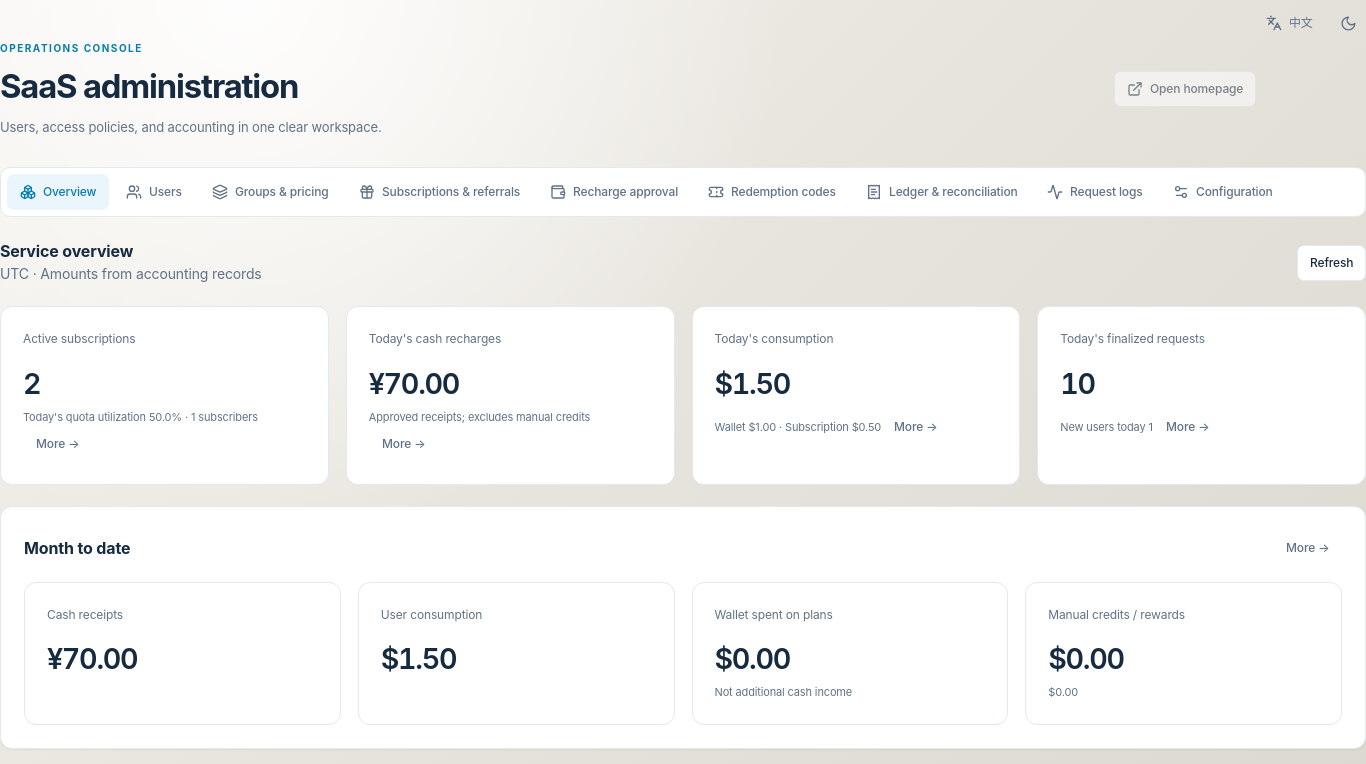
Test: SaaS administrator › keeps service configuration inside the SaaS administration panel
Click the button "Configuration" at {"x": 1223, "y": 192}, box x1=1160 y1=174 x2=1286 y2=210
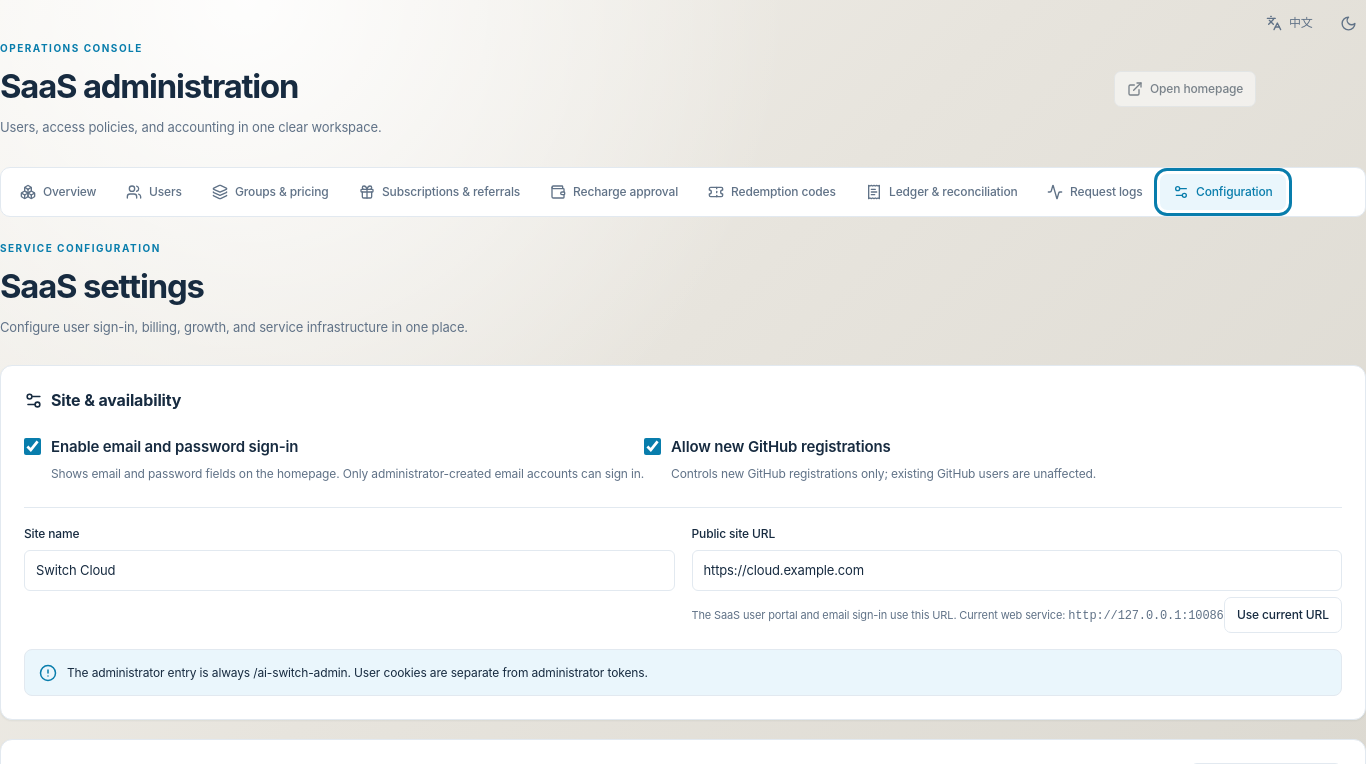
Now the field labelled "Public site URL" holds "https://cloud.example.com", box x1=692 y1=550 x2=1342 y2=591
Now the text "http://127.0.0.1:10086" is shown, box x1=1068 y1=609 x2=1224 y2=623
Click the button "Use current URL" at {"x": 1282, "y": 615}, box x1=1224 y1=597 x2=1341 y2=633
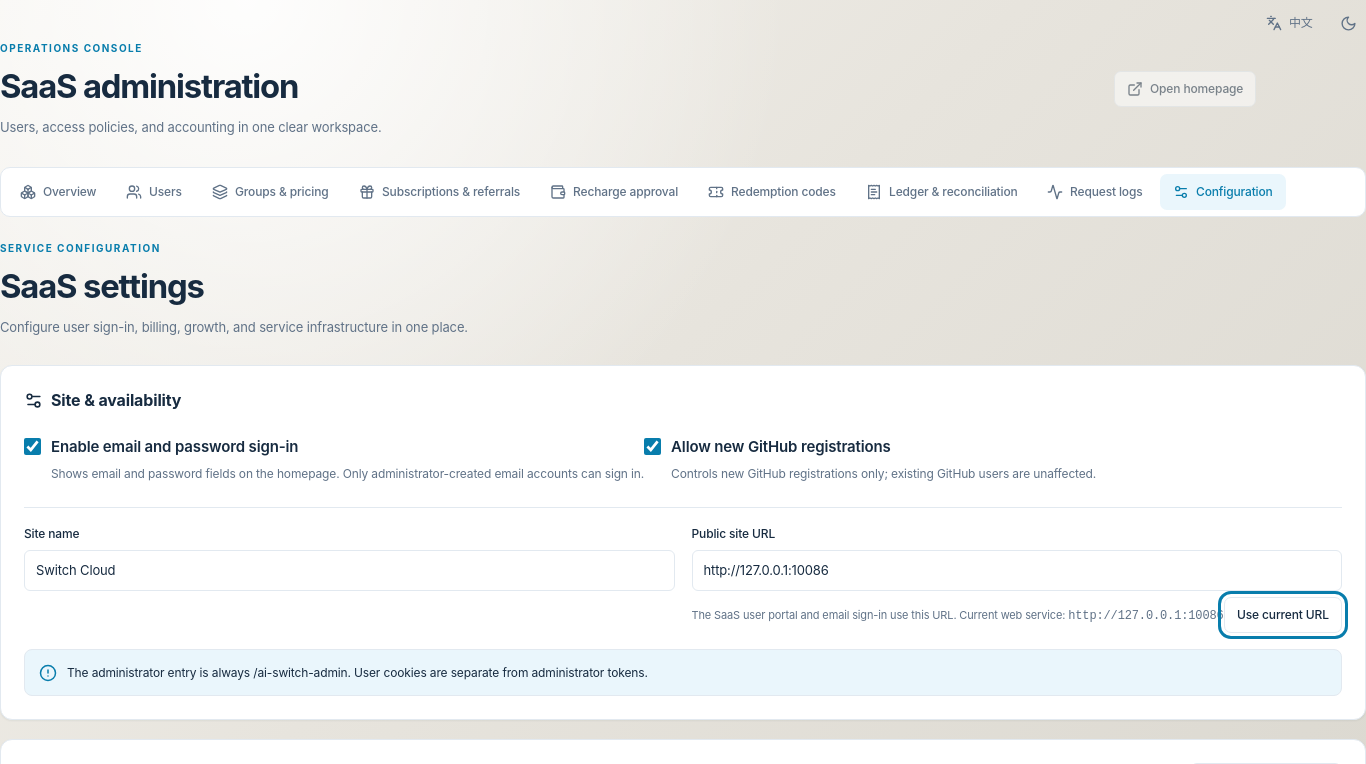
Now the field labelled "Public site URL" holds "http://127.0.0.1:10086", box x1=692 y1=550 x2=1342 y2=591
